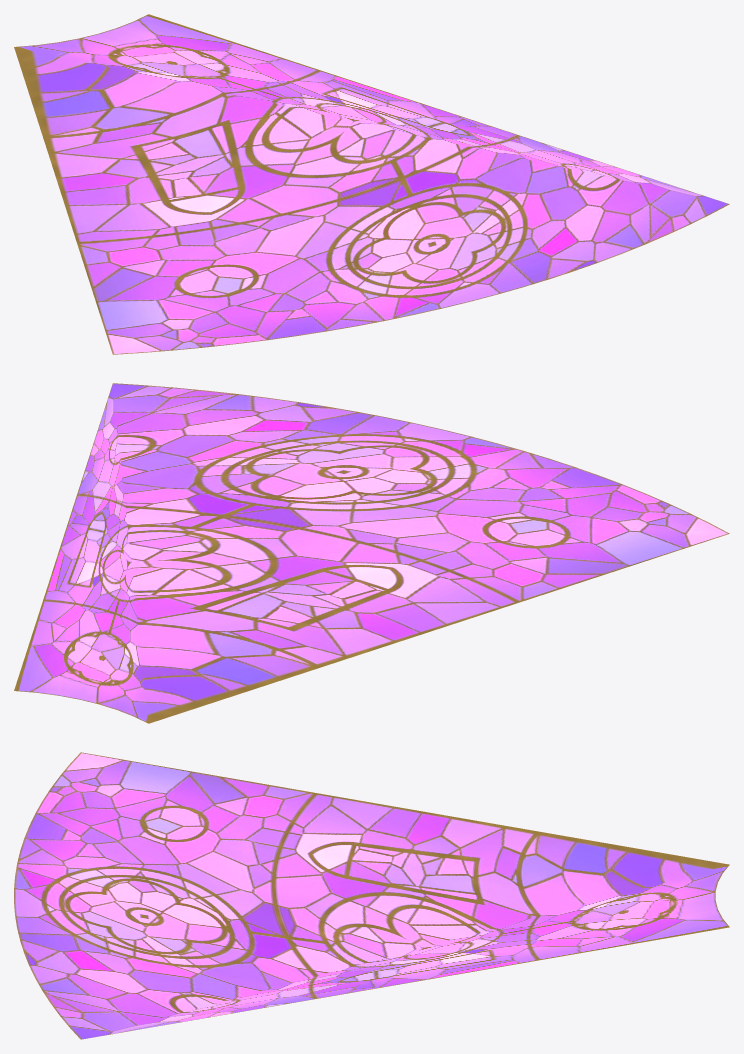
The model's file is lb_wedgelit_6.glb.
3 views of the same model, one above another, from view 1: azimuth 30°, elevation 25°; view 2: azimuth 150°, elevation 25°; view 3: azimuth 270°, elevation 25° (orthographic). The views are drawn at different scales.
Visible parts, largest first — view 1: lb_wedgelit_6; view 2: lb_wedgelit_6; view 3: lb_wedgelit_6.
Boxes of the visible parts, x1,y1,x2,y2 form: lb_wedgelit_6: (14,14,729,354); lb_wedgelit_6: (14,383,729,723); lb_wedgelit_6: (14,752,729,1039).
Size of the model in its own units: 11.32 by 0 by 11.92.
1 material, 1 textured.
